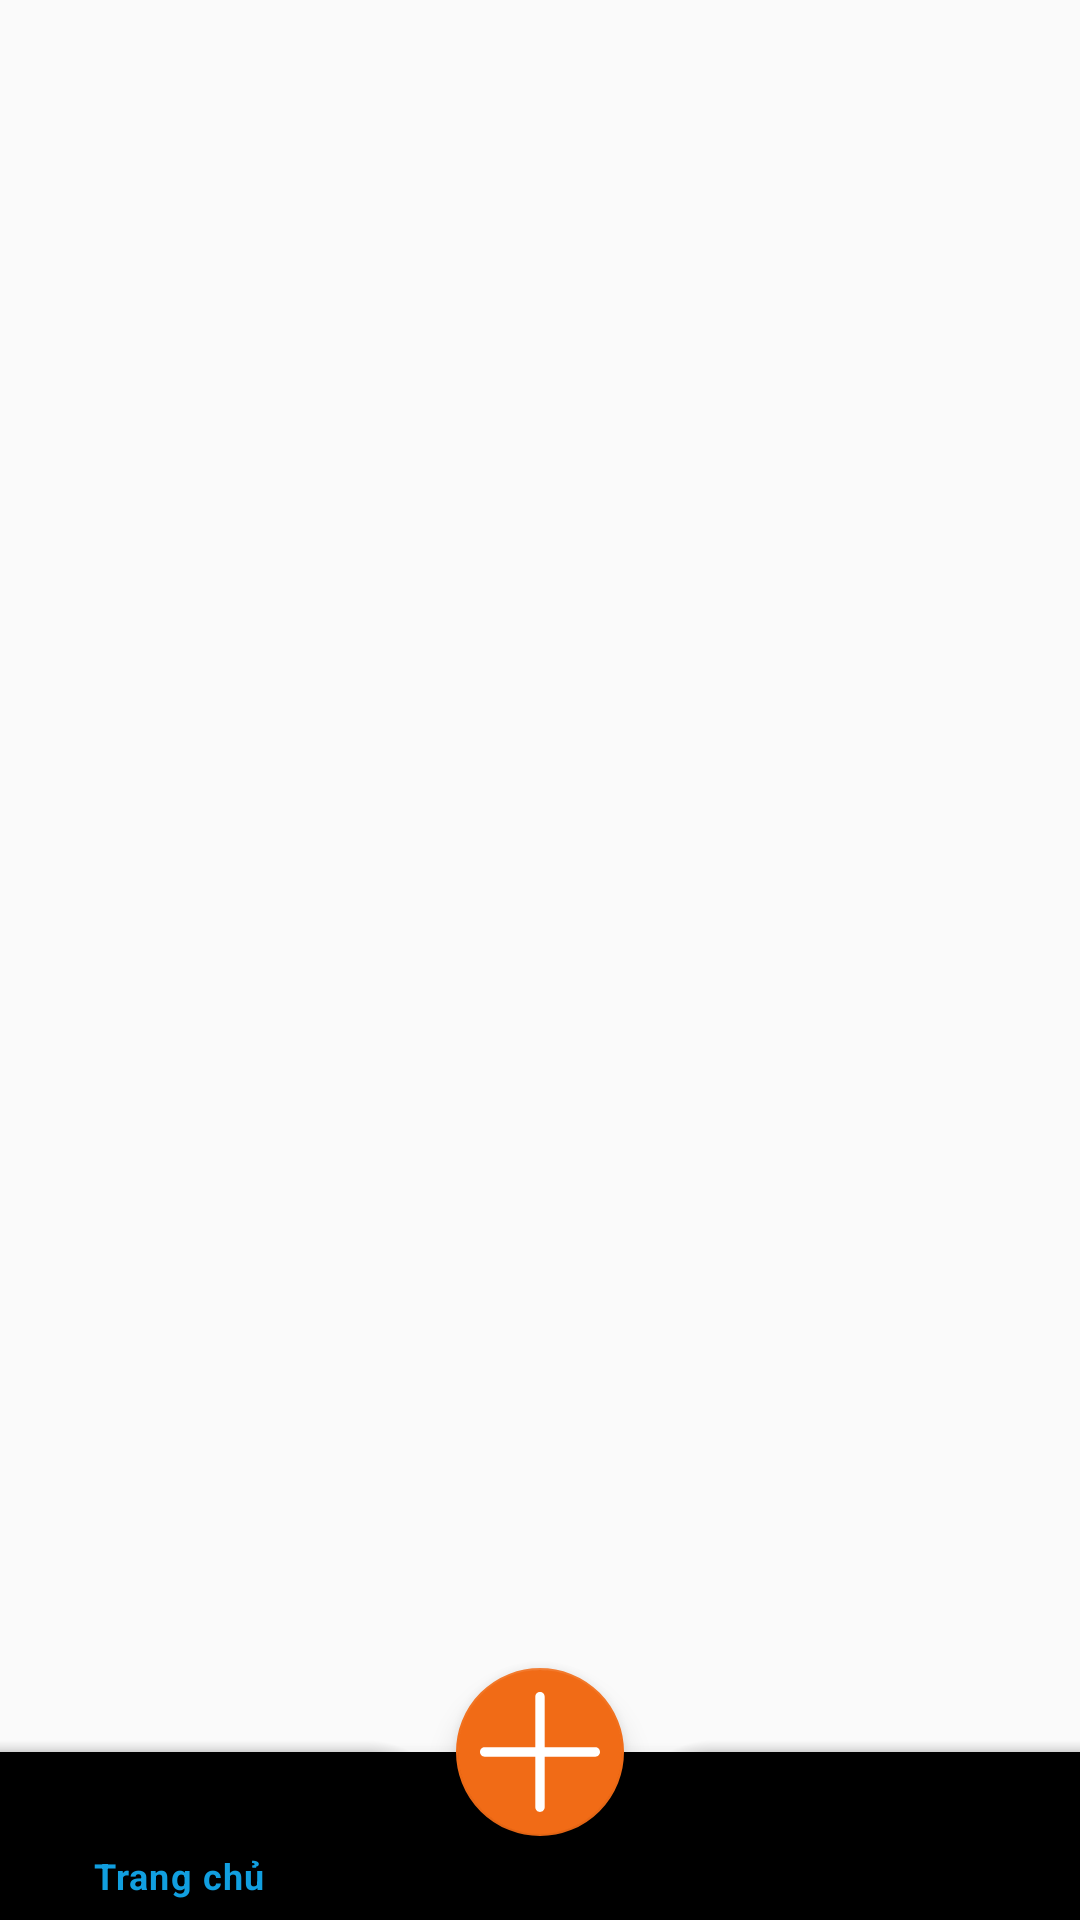

Where to tap for icons on this 1080×1920 app screen, as (x,y):
plus: (540,1752)
